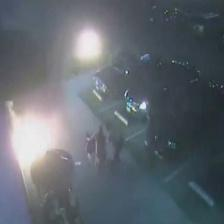fire: (4, 98, 60, 175), (70, 25, 109, 63)
